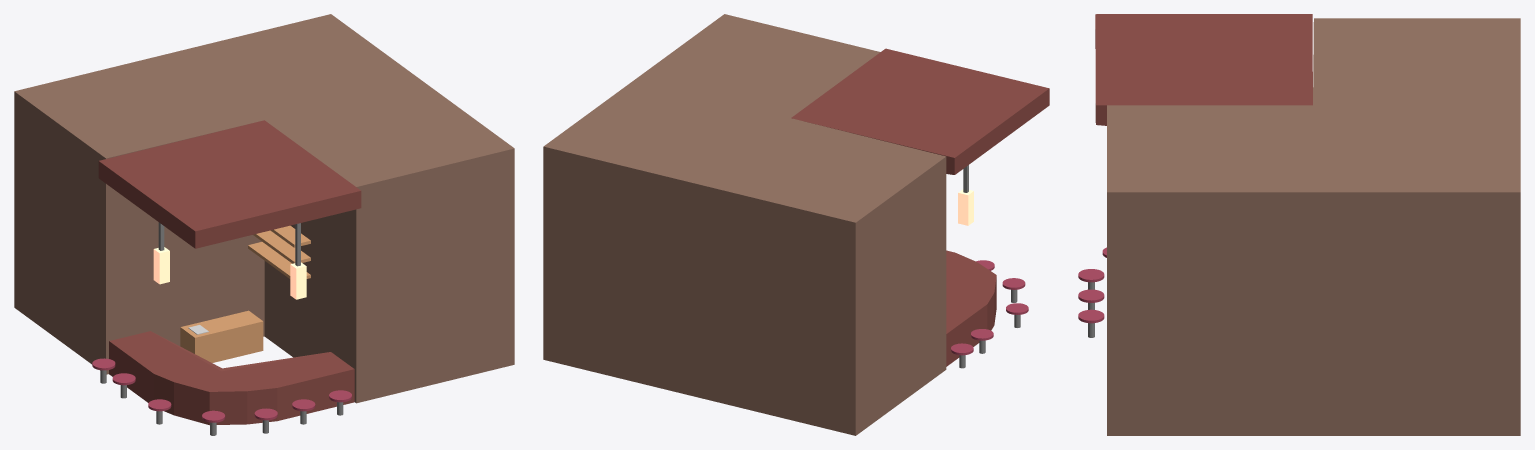
3 views of the same model, side by side, from view 1: azimuth 30°, elevation 25°; view 2: azimuth 150°, elevation 25°; view 3: azimuth 270°, elevation 25° (orthographic). The views are drawn at different scales.
Parts seen in each view (by area): view 1: Cube.028, Cube.001, Cube, Cube.005, Cube.003, Cube.004, Cube.009, Cube.008; view 2: Cube.028, Cube.001, Cube, Cube.008; view 3: Cube.028, Cube.001.
Boxes of the visible parts, bbox=[...] form: Cube.028: bbox=[14, 14, 514, 403]; Cube.001: bbox=[98, 120, 361, 248]; Cube: bbox=[109, 331, 354, 425]; Cube.005: bbox=[180, 310, 263, 362]; Cube.003: bbox=[253, 230, 310, 263]; Cube.004: bbox=[248, 242, 310, 278]; Cube.009: bbox=[290, 262, 306, 299]; Cube.008: bbox=[153, 247, 169, 284]; Cube.028: bbox=[543, 14, 946, 435]; Cube.001: bbox=[791, 48, 1049, 174]; Cube: bbox=[946, 250, 996, 366]; Cube.008: bbox=[958, 189, 973, 225]; Cube.028: bbox=[1107, 18, 1520, 435]; Cube.001: bbox=[1095, 14, 1312, 125].
Size of the model in its own units: 13.16 by 8.1 by 13.33.
